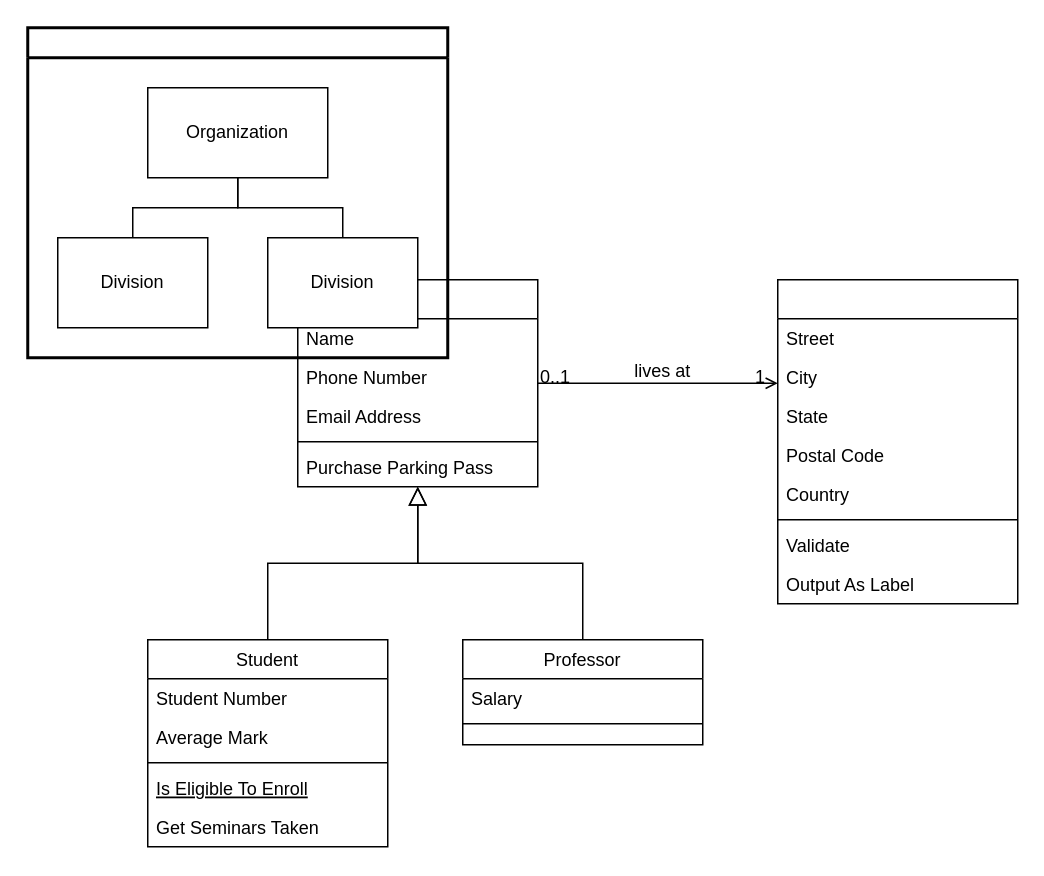
The diagram is 1044 pixels wide and 876 high, and some of its shapes have lost their labels. Here are the shapes that lost their labels. From the top down, the box of each, then its label:
(26, 26, 448, 358): Orgchart
(296, 278, 538, 487): Person
(776, 278, 1018, 604): Address
